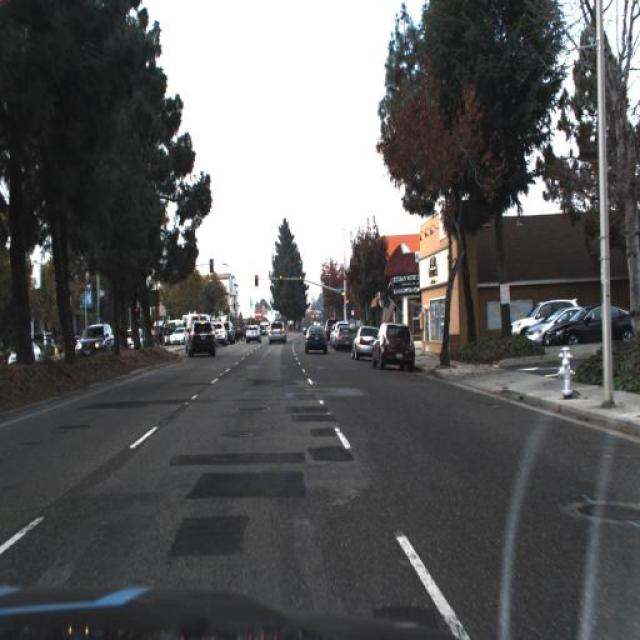car: (540, 300, 636, 350), (510, 293, 575, 343), (369, 318, 416, 374), (525, 308, 581, 343), (72, 319, 118, 360), (74, 324, 116, 358), (350, 319, 380, 366), (186, 318, 220, 358), (300, 320, 332, 354), (7, 342, 44, 370), (332, 322, 358, 356), (240, 317, 264, 344), (334, 321, 354, 352), (267, 317, 288, 345), (215, 324, 230, 348), (246, 326, 262, 344)
